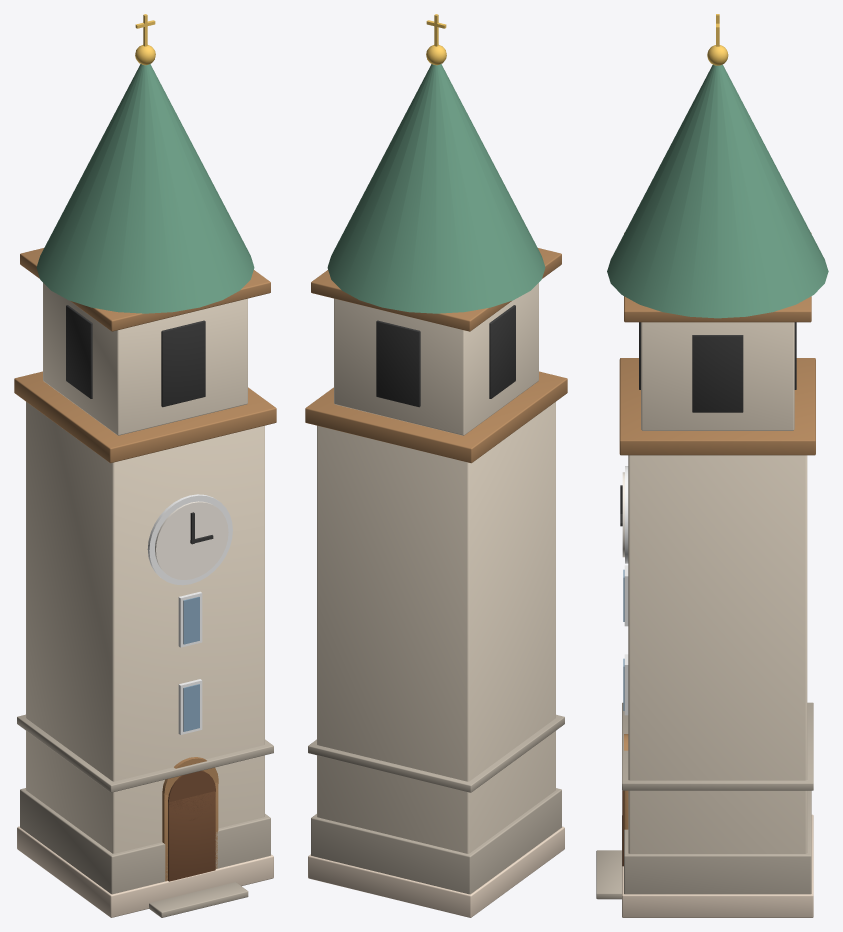
The model's file is church_tower.glb.
3 renders of one model, left to right at view 1: azimuth 30°, elevation 25°; view 2: azimuth 150°, elevation 25°; view 3: azimuth 270°, elevation 25°, orthographic.
Visible parts, largest first — view 1: church_tower; view 2: church_tower; view 3: church_tower.
Part boxes in pixels (<box>): church_tower: <box>14,14,276,917</box>; church_tower: <box>305,14,567,917</box>; church_tower: <box>596,14,828,917</box>.
Size of the model in its own units: 5.2 by 22.35 by 5.45.
